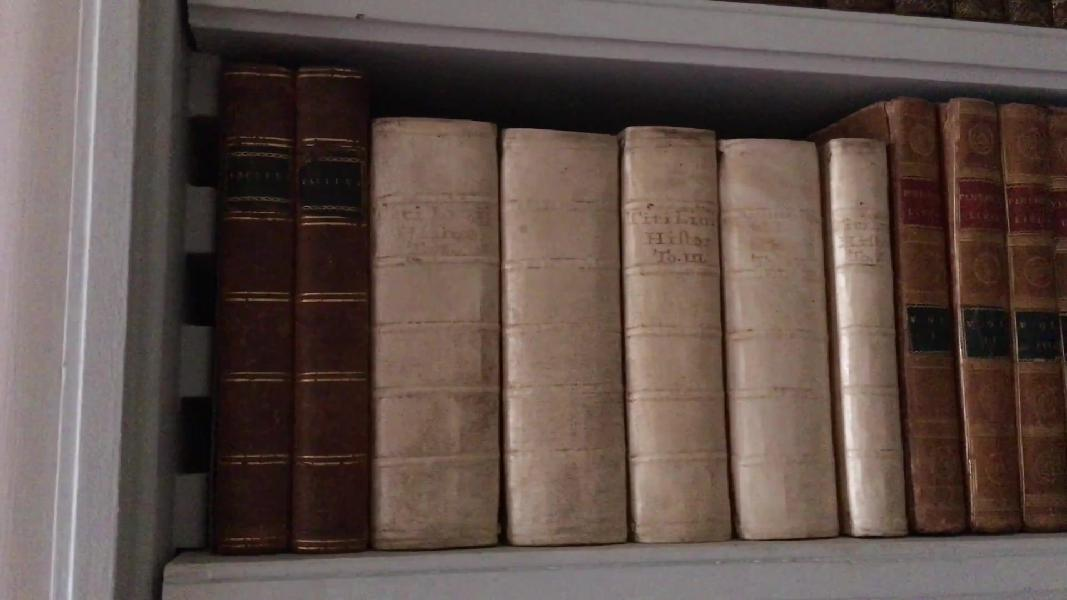Kk4-1_2: (193, 39, 378, 565)
Kk4-3_7: (354, 96, 913, 559)
Kk4-8_13: (873, 92, 1067, 549)
